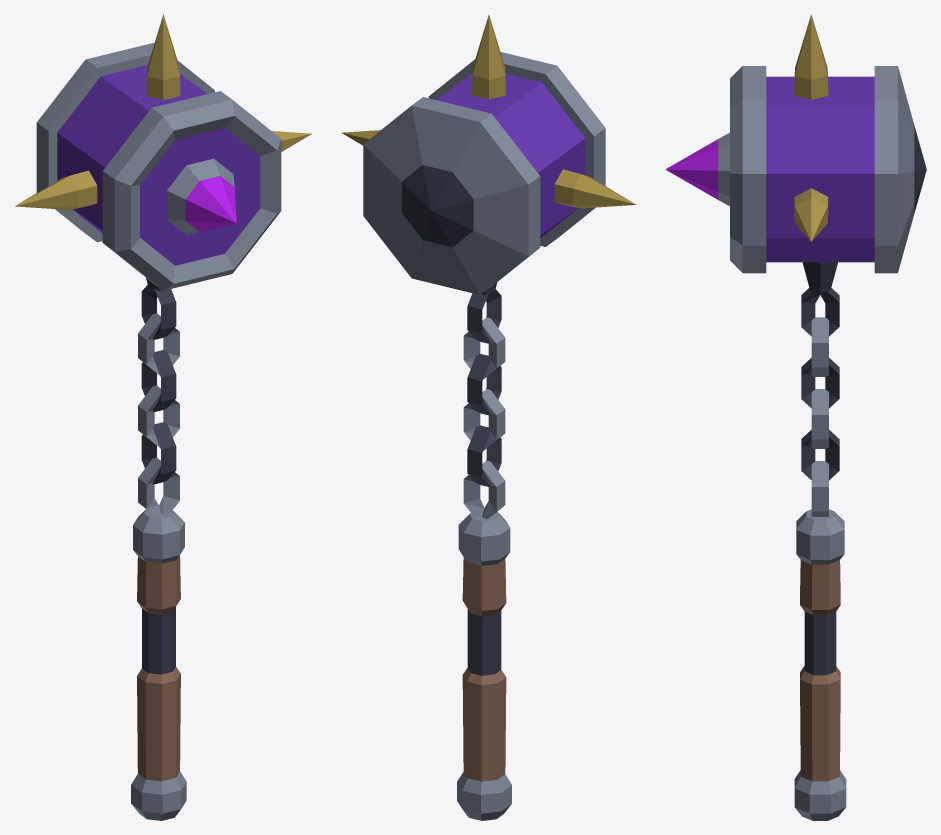
File: flail-be37b2.glb
3 renders of one model, left to right at view 1: azimuth 30°, elevation 25°; view 2: azimuth 150°, elevation 25°; view 3: azimuth 270°, elevation 25°, orthographic.
Visible parts, largest first — view 1: head-metal, head-matte, handle-matte, handle-metal, head-crystal, tether-metal, link-1-metal, link-3-metal, link-4-metal, link-2-metal, link-5-metal; view 2: head-metal, head-matte, handle-matte, handle-metal, tether-metal, link-3-metal, link-1-metal, link-2-metal, link-4-metal, link-5-metal; view 3: head-metal, head-matte, handle-matte, handle-metal, head-crystal, link-5-metal, link-2-metal, link-4-metal, link-3-metal, link-1-metal, tether-metal.
Part boxes in pixels (<box>): head-metal: <box>15,14,311,290</box>; head-matte: <box>57,65,260,265</box>; handle-matte: <box>137,555,180,781</box>; handle-metal: <box>131,509,186,820</box>; head-crystal: <box>185,176,236,232</box>; tether-metal: <box>138,457,179,516</box>; link-1-metal: <box>141,422,176,484</box>; link-3-metal: <box>141,350,176,411</box>; link-4-metal: <box>138,313,179,375</box>; link-2-metal: <box>138,385,179,447</box>; link-5-metal: <box>141,285,176,339</box>; head-metal: <box>341,15,636,294</box>; head-matte: <box>436,73,585,238</box>; handle-matte: <box>462,557,506,781</box>; handle-metal: <box>457,511,511,820</box>; tether-metal: <box>463,460,505,519</box>; link-3-metal: <box>467,354,501,415</box>; link-1-metal: <box>467,425,501,486</box>; link-2-metal: <box>463,389,505,450</box>; link-4-metal: <box>463,317,505,378</box>; link-5-metal: <box>467,289,501,343</box>; head-metal: <box>718,14,926,292</box>; head-matte: <box>766,76,874,262</box>; handle-matte: <box>800,560,840,781</box>; handle-metal: <box>794,509,846,820</box>; head-crystal: <box>665,139,718,199</box>; link-5-metal: <box>801,288,839,336</box>; link-2-metal: <box>811,389,828,448</box>; link-4-metal: <box>811,317,828,376</box>; link-3-metal: <box>801,358,839,408</box>; link-1-metal: <box>801,430,839,480</box>; tether-metal: <box>811,461,828,516</box>.
Size of the model in its own units: 0.3803 by 0.9773 by 0.29.
